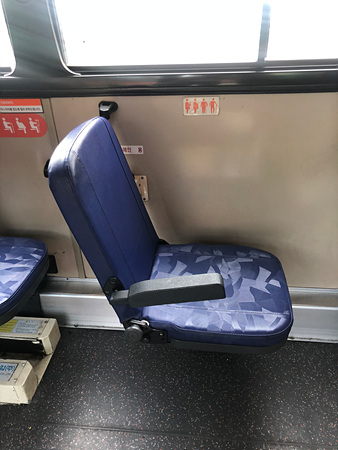seat: (44, 115, 295, 349)
